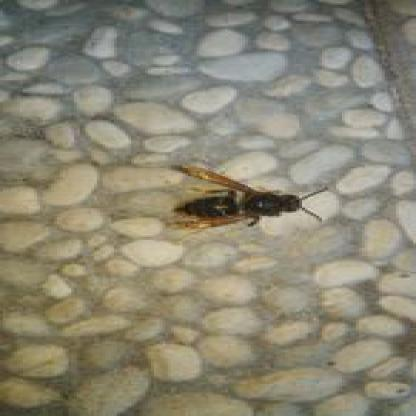Asian Hornet: (156, 156, 332, 248)
